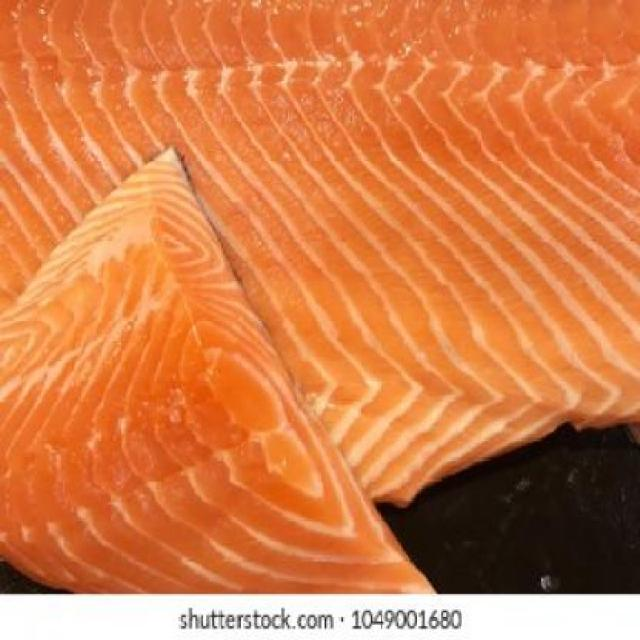salmon: (3, 3, 639, 520), (1, 128, 452, 596)
